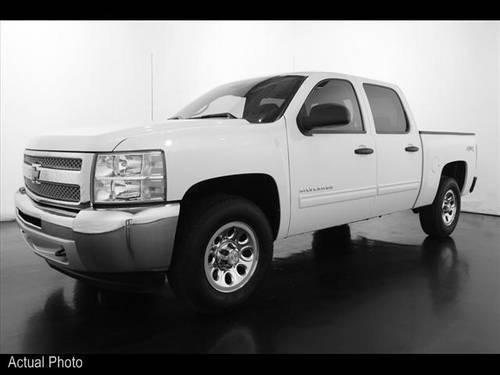car: (13, 71, 481, 318)
